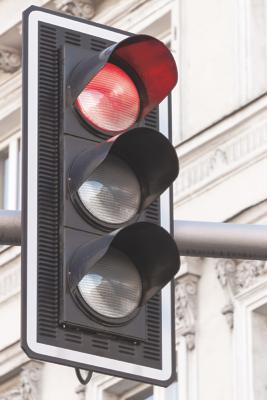International Road Signal Light: (19, 7, 179, 378)
